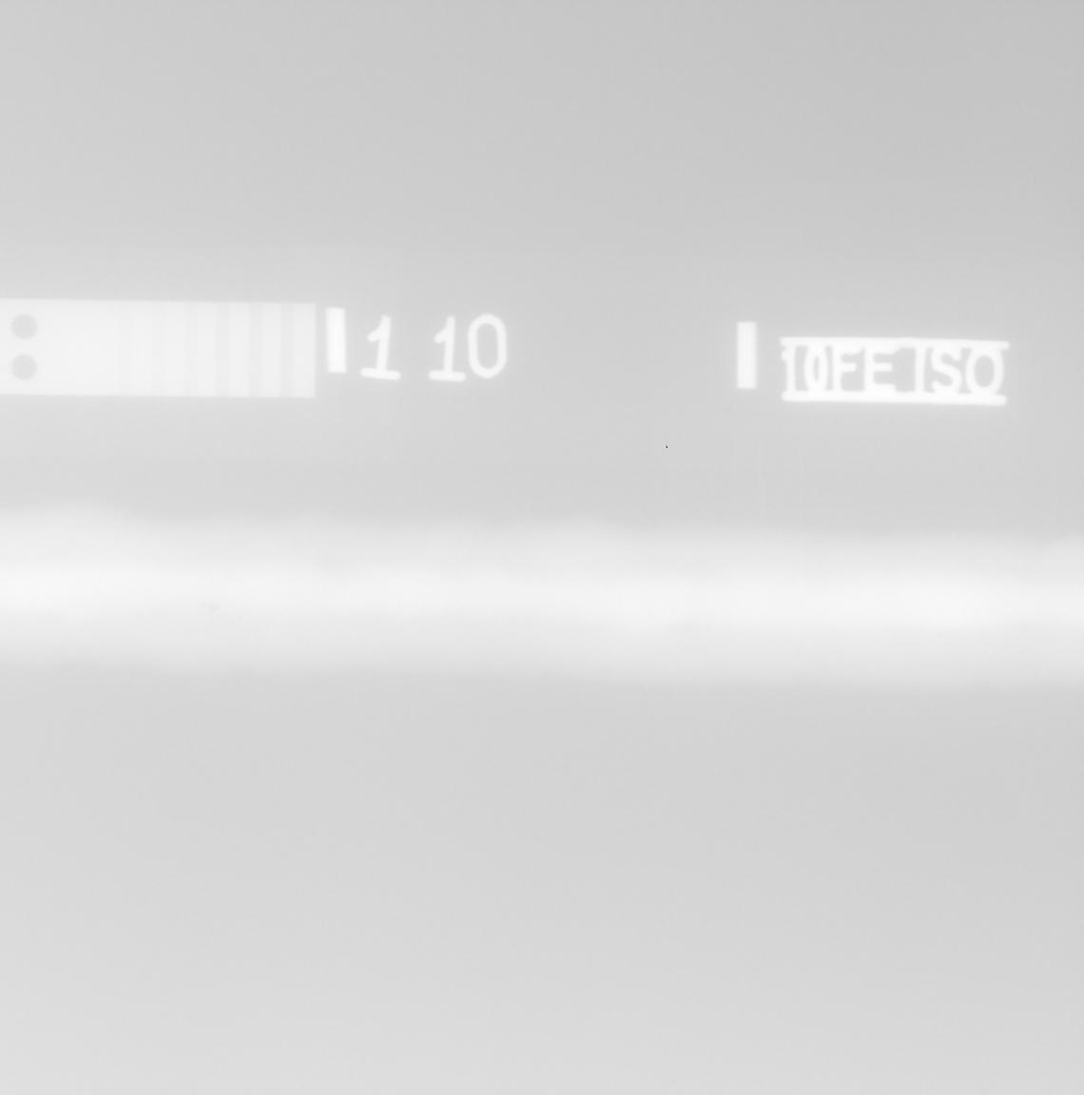Pore/Porosity: (199, 601, 222, 611), (936, 632, 941, 636)
